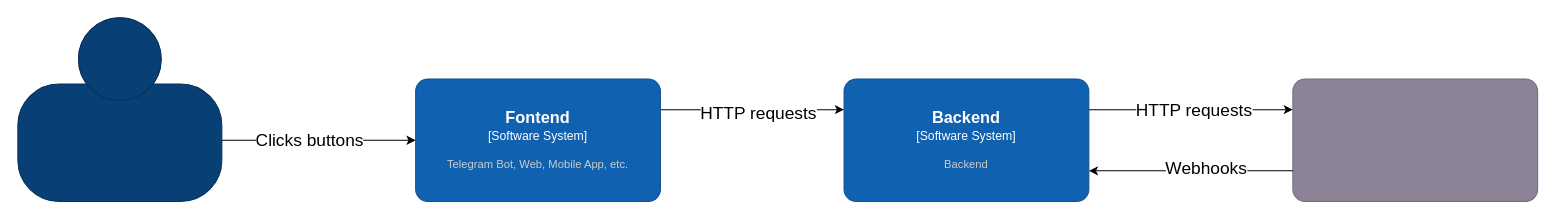
This 1556x219 diagram has some shape labels left out. The centre of each missing label's shape, as x and y in pixels:
"User [Person] User" goes at pixel 119 109.
"Юкасса sandbox API [Software System] Description of external software system." goes at pixel 1415 139.
